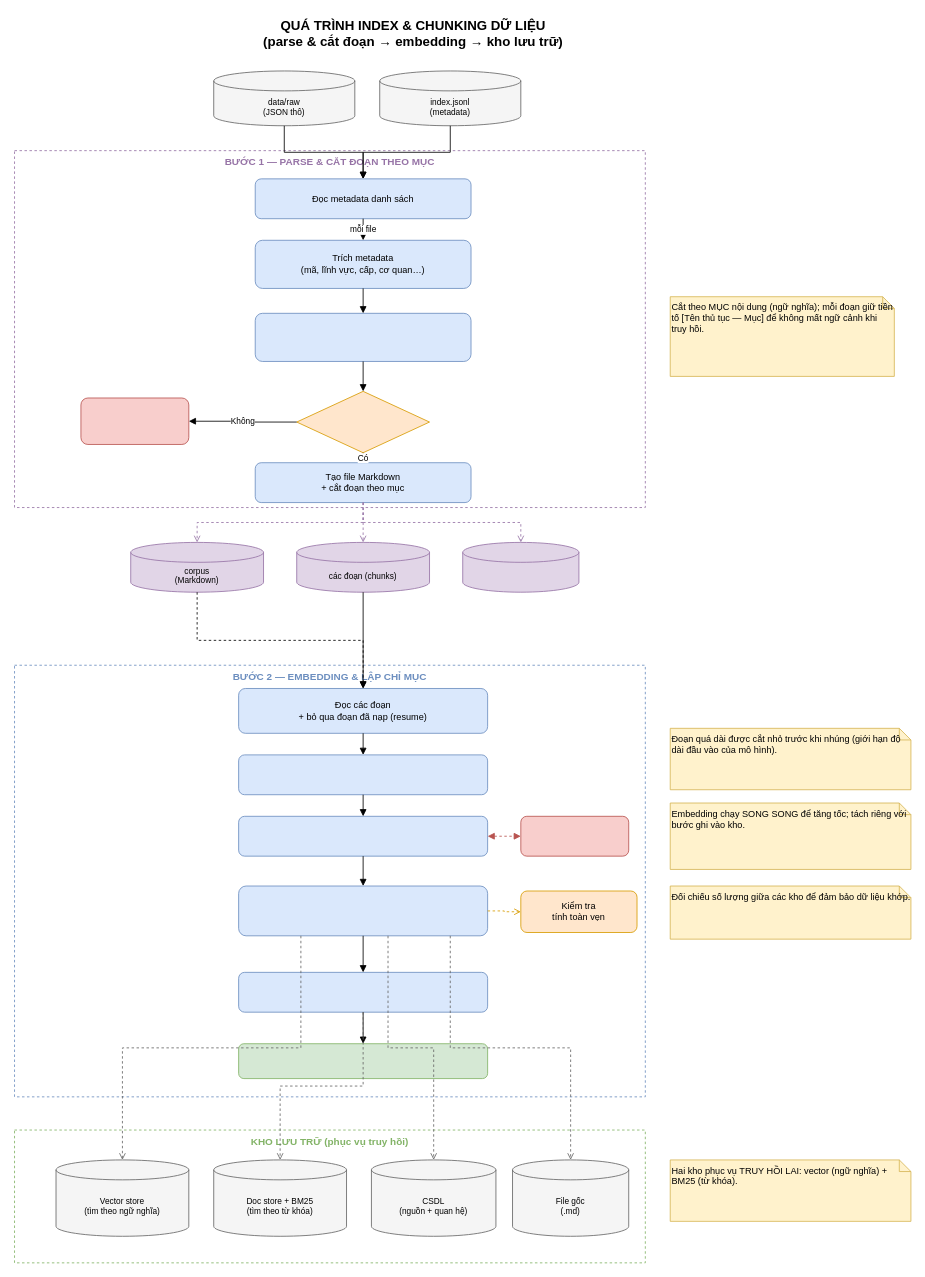
This 925x1277 diagram has some shape labels left out. The shapes that lost their labels are listed below. From the top down, each one's centre as x and y in pixels, then its label:
At pixel 362 336: "Tách nội dung thành các MỤC (hồ sơ, trình tự, lệ phí, kết quả…)".
At pixel 134 420: "Bỏ qua".
At pixel 363 422: "Có nội dung?".
At pixel 520 567: "metadata".
At pixel 363 774: "Cắt nhỏ đoạn quá dài".
At pixel 363 835: "Tạo vector nhúng (embedding)".
At pixel 574 835: "Mô hình Embedding (Azure OpenAI)".
At pixel 363 910: "Ghi vào kho lưu trữ (vector store · doc store · CSDL · file gốc)".
At pixel 363 992: "Tạo chỉ mục từ khóa (BM25)".
At pixel 363 1061: "Hoàn tất → sẵn sàng truy vấn".
